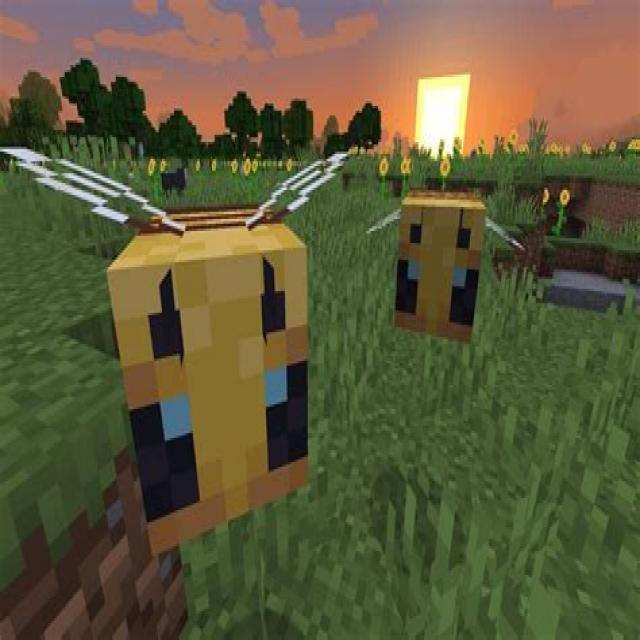Bee: (0, 141, 350, 564), (364, 184, 526, 348)
